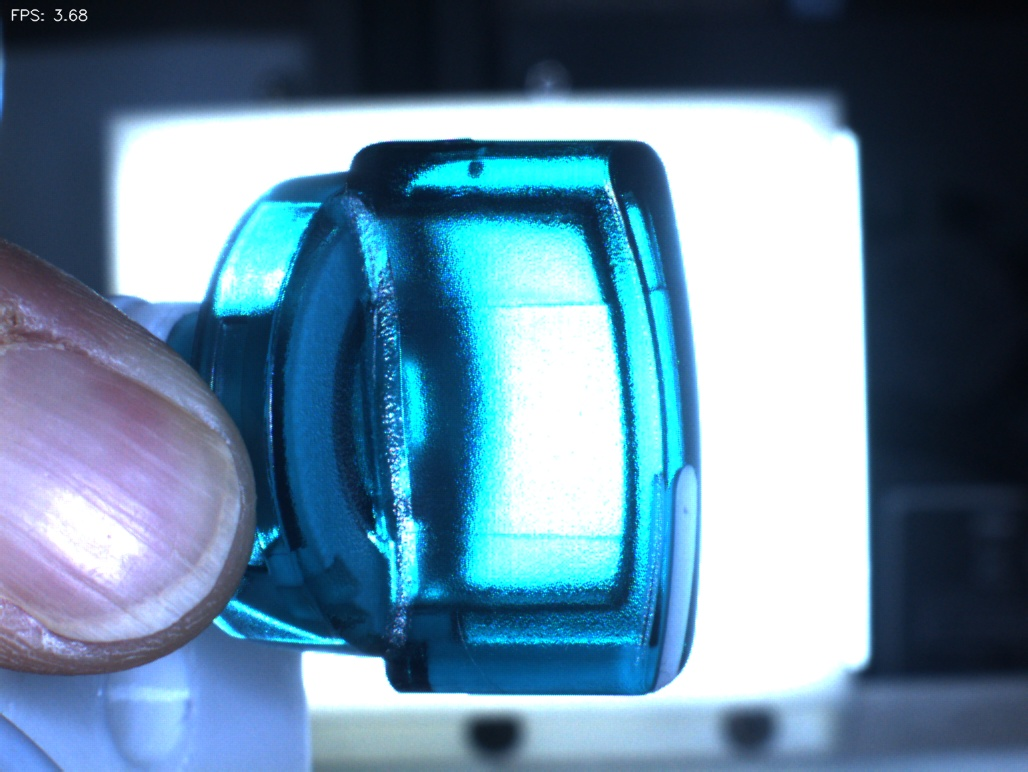Bulle: (435, 121, 522, 215)
